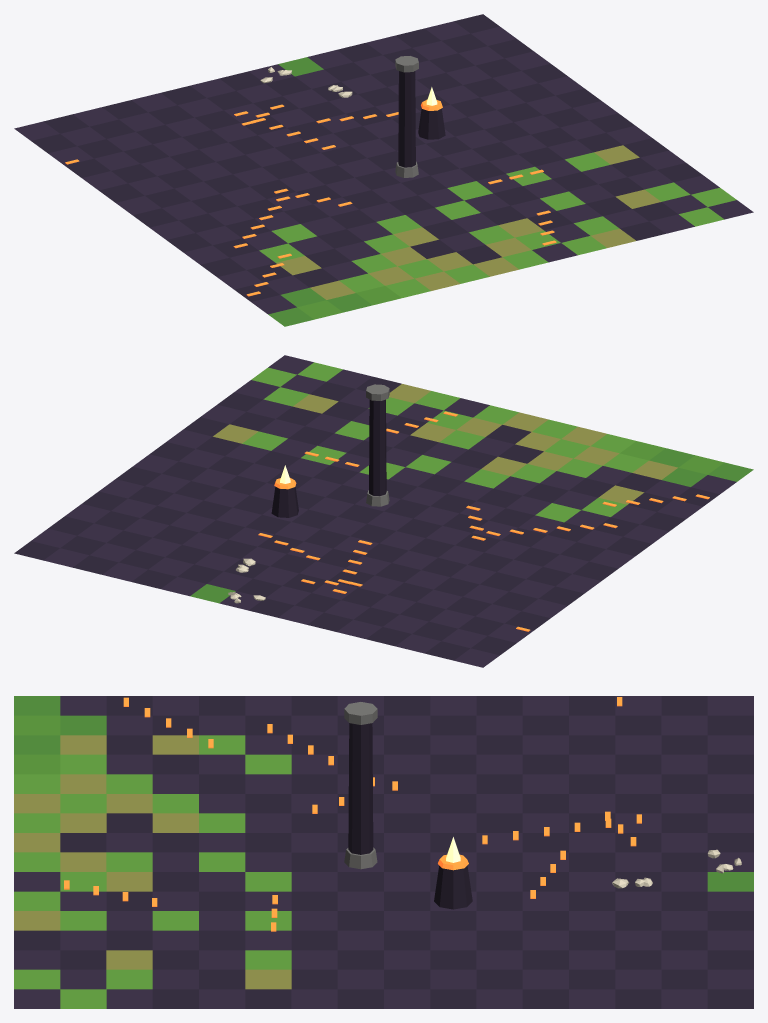
Rendered from chunk_5_23.glb.
3 renders of one model, top to bottom at view 1: azimuth 30°, elevation 25°; view 2: azimuth 150°, elevation 25°; view 3: azimuth 270°, elevation 25°, orthographic. The views are drawn at different scales.
Parts seen in each view (by area): view 1: chunk_5_23; view 2: chunk_5_23; view 3: chunk_5_23.
Part boxes in pixels (left/top/right/bottom): chunk_5_23: left=14, top=14, right=753, bottom=326; chunk_5_23: left=14, top=355, right=753, bottom=667; chunk_5_23: left=14, top=696, right=753, bottom=1008.
Size of the model in its own units: 16 by 3.8 by 16.
